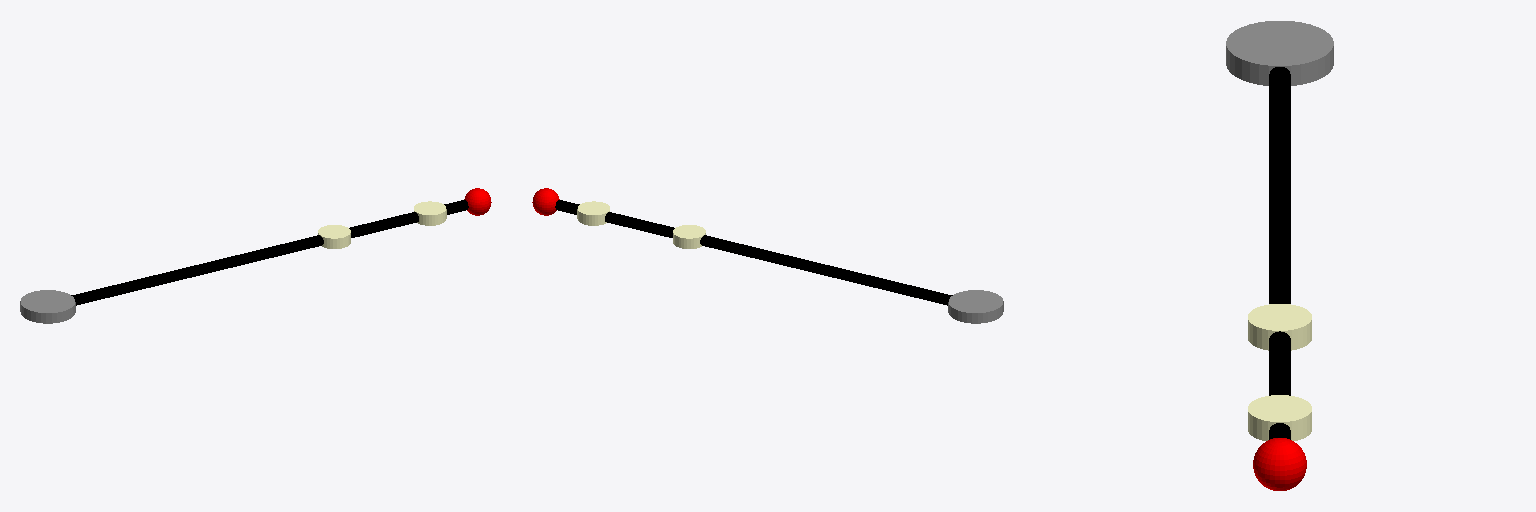
The robot description file, URDF, robot "planar3R":
<?xml version="1.0"?>

<robot name="planar3R">
  
  <!-- *************************************************** -->
  <!-- ******************** Kinematics ******************* -->
  <!-- *************************************************** -->
  <!-- Note the 'origin' tag in the joints defines the
       shift and reorientation before the continuous joint
       rotates around the 'axis'. -->

  <!-- The link lengths are:
       l1 = 1.2m   or 40% of 3.0m
       l2 = 0.4m   or 40% of 1.0m
       l3 = 0.2m   of 40% of 0.5m -->

  <link name="world"/>

  <joint name="theta1" type="continuous">
    <parent link="world"/>
    <child  link="link1"/>
    <origin xyz="0 0 0" rpy="0 0 0"/>
    <axis   xyz="0 0 1"/>
  </joint>

  <link name="link1"/>

  <joint name="theta2" type="continuous">
    <parent link="link1"/>
    <child  link="link2"/>
    <origin xyz="1.2 0 0" rpy="0 0 0"/>
    <axis   xyz="0 0 1"/>
  </joint>

  <link name="link2"/>

  <joint name="theta3" type="continuous">
    <parent link="link2"/>
    <child  link="link3"/>
    <origin xyz="0.4 0 0" rpy="0 0 0"/>
    <axis   xyz="0 0 1"/>
  </joint>

  <link name="link3"/>

  <joint name="shifttotip" type="fixed">
    <parent link="link3"/>
    <child  link="tip"/>
    <origin xyz="0.2 0 0" rpy="0 0 0"/>
  </joint>

  <link name="tip"/>


  <!-- *************************************************** -->
  <!-- ********************* Graphics ******************** -->
  <!-- *************************************************** -->
  <!-- The following is purely to make this look roboticy. -->
  <!-- The 'origin' tag in the link/visual defines the
       center of the object (box, cylinder, sphere, mesh)
       but does not affect the joint chain kinematics. -->

  <!-- *************** Materials / Colors **************** -->

  <material name="white">    <color rgba="1.00 1.00 1.00 1"/>  </material>
  <material name="gray">     <color rgba="0.60 0.60 0.60 1"/>  </material>
  <material name="table">    <color rgba="0.85 0.77 0.77 1"/>  </material>
  <material name="black">    <color rgba="0.00 0.00 0.00 1"/>  </material>

  <material name="red">      <color rgba="1.00 0.00 0.00 1"/>  </material>
  <material name="green">    <color rgba="0.00 1.00 0.00 1"/>  </material>
  <material name="blue">     <color rgba="0.00 0.00 1.00 1"/>  </material>

  <material name="cyan">     <color rgba="0.00 1.00 1.00 1"/>  </material>
  <material name="magenta">  <color rgba="1.00 0.00 1.00 1"/>  </material>
  <material name="yellow">   <color rgba="1.00 1.00 0.00 1"/>  </material>

  <material name="motor">    <color rgba="1.00 1.00 0.80 1"/>  </material>
  <material name="orange">   <color rgba="1.00 0.65 0.00 1"/>  </material>


  <!-- *** Base Motor 1 - attached to world *** -->

  <joint name="attach-motor1" type="fixed">
    <parent link="world"/>
    <child  link="motor1"/>
  </joint>

  <link name="motor1">
    <visual>
      <origin xyz="0 0 0" rpy="0 0 0"/>
      <geometry>
	<cylinder length="0.042" radius="0.10"/>
      </geometry>
      <material name="gray"/>
    </visual>
  </link>

  <!-- *** Link 1 Bar - attached to link1 *** -->

  <joint name="attach-link1bar" type="fixed">
    <parent link="link1"/>
    <child  link="link1bar"/>
  </joint>

  <link name="link1bar">
    <visual>
      <origin xyz="0.6 0 0" rpy="0 1.5708 0"/>
      <geometry>
	<cylinder length="1.2" radius="0.02"/>
      </geometry>
      <material name="black"/>
    </visual>
  </link>

  <!-- *** Motor 2 - attached to link1 *** -->

  <joint name="attach-motor2" type="fixed">
    <parent link="link1"/>
    <child  link="motor2"/>
  </joint>

  <link name="motor2">
    <visual>
      <origin xyz="1.2 0 0" rpy="0 0 0"/>
      <geometry>
	<cylinder length="0.042" radius="0.06"/>
      </geometry>
      <material name="motor"/>
    </visual>
  </link>

  <!-- *** Link 2 Bar - attached to link2 *** -->

  <joint name="attach-link2bar" type="fixed">
    <parent link="link2"/>
    <child  link="link2bar"/>
  </joint>

  <link name="link2bar">
    <visual>
      <origin xyz="0.2 0 0" rpy="0 1.5708 0"/>
      <geometry>
	<cylinder length="0.4" radius="0.02"/>
      </geometry>
      <material name="black"/>
    </visual>
  </link>

  <!-- *** Motor 3 - attached to link2 *** -->

  <joint name="attach-motor3" type="fixed">
    <parent link="link2"/>
    <child  link="motor3"/>
  </joint>

  <link name="motor3">
    <visual>
      <origin xyz="0.4 0 0" rpy="0 0 0"/>
      <geometry>
	<cylinder length="0.042" radius="0.06"/>
      </geometry>
      <material name="motor"/>
    </visual>
  </link>

  <!-- *** Link 3 Bar - attached to link3 *** -->

  <joint name="attach-link3bar" type="fixed">
    <parent link="link3"/>
    <child  link="link3bar"/>
  </joint>

  <link name="link3bar">
    <visual>
      <origin xyz="0.1 0 0" rpy="0 1.5708 0"/>
      <geometry>
	<cylinder length="0.1" radius="0.02"/>
      </geometry>
      <material name="black"/>
    </visual>
  </link>

  <!-- *** Tip Ball - attached to tip *** -->

  <joint name="attach-tipball" type="fixed">
    <parent link="tip"/>
    <child  link="tipball"/>
  </joint>

  <link name="tipball">
    <visual>
      <origin xyz="0 0 0" rpy="0 0 0"/>
      <geometry>
      	<sphere radius="0.05"/>
      </geometry>
      <material name="red"/>
    </visual>
  </link>

</robot>

--- Facts derived from the render (not from the file) ---
Views: 3 orthographic renders of the robot side by side, from view 1: azimuth 30°, elevation 25°; view 2: azimuth 150°, elevation 25°; view 3: azimuth 270°, elevation 25°.
Robot: planar3R — 12 links, 11 joints (3 continuous, 8 fixed); root link world; default pose: all joints at 0.
Visible links, largest first — view 1: link1bar, motor1, link2bar, motor3, motor2, tipball; view 2: link1bar, motor1, link2bar, motor3, motor2, tipball; view 3: motor1, link1bar, motor3, motor2, tipball, link2bar.
Link boxes in pixels (bbox=[...]): link1bar: bbox=[71, 235, 323, 305]; motor1: bbox=[20, 290, 75, 323]; link2bar: bbox=[349, 212, 418, 237]; motor3: bbox=[414, 201, 446, 225]; motor2: bbox=[318, 225, 350, 248]; tipball: bbox=[464, 188, 491, 215]; link1bar: bbox=[700, 235, 952, 305]; motor1: bbox=[948, 290, 1003, 323]; link2bar: bbox=[605, 212, 674, 237]; motor3: bbox=[577, 201, 609, 225]; motor2: bbox=[673, 225, 705, 248]; tipball: bbox=[532, 188, 559, 215]; motor1: bbox=[1226, 21, 1333, 85]; link1bar: bbox=[1269, 67, 1290, 303]; motor3: bbox=[1248, 395, 1311, 440]; motor2: bbox=[1248, 304, 1311, 350]; tipball: bbox=[1253, 438, 1306, 490]; link2bar: bbox=[1269, 331, 1290, 395].
Size in the robot's own frame: 1.95 by 0.2 by 0.1 metres.
Geometry: primitives only (box / cylinder / sphere), no mesh files.
